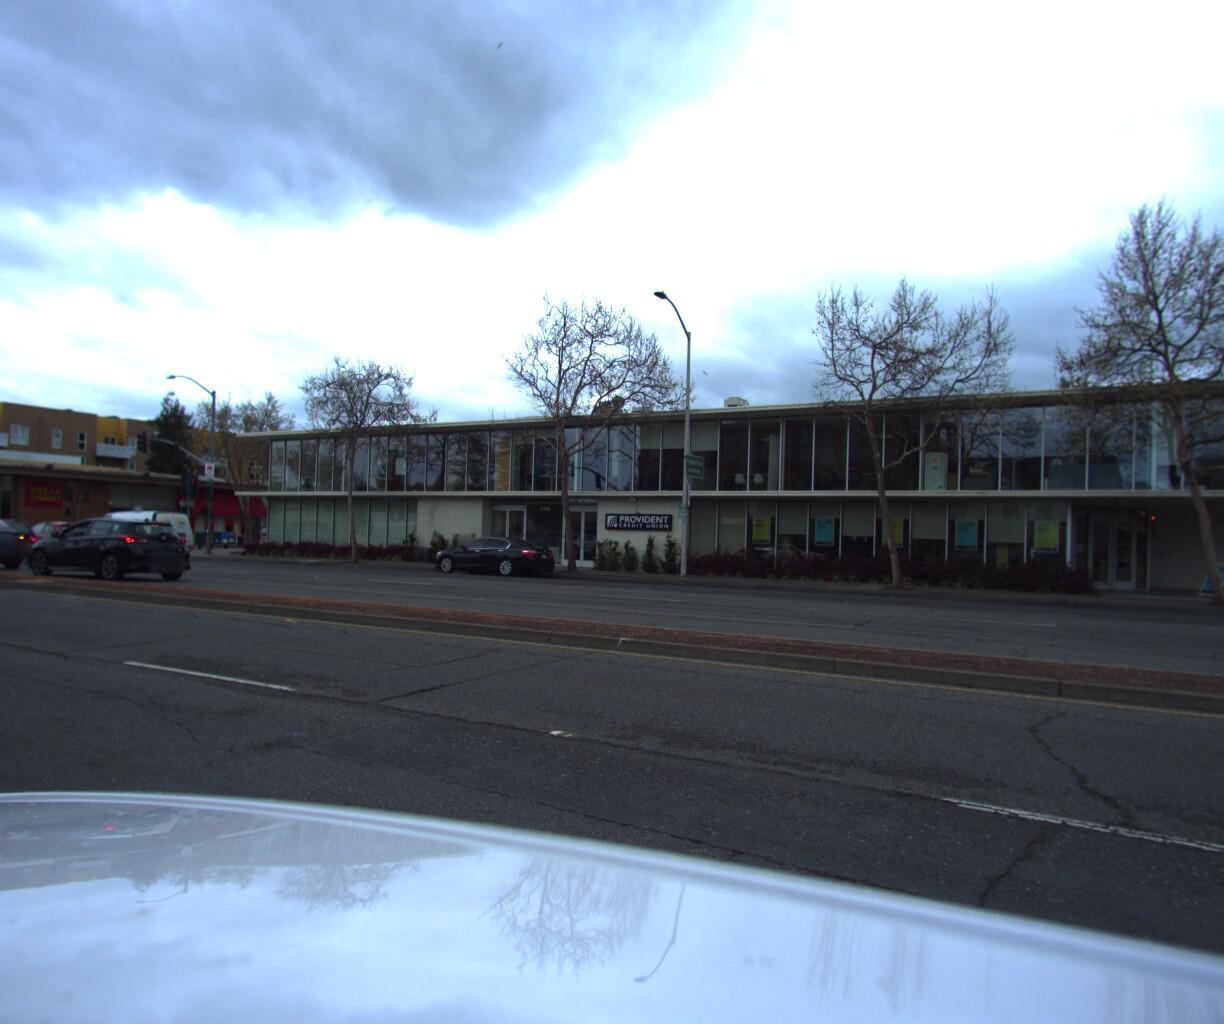car: (6, 522, 200, 600), (422, 540, 562, 594), (85, 513, 201, 563), (9, 524, 117, 566), (0, 516, 43, 574), (0, 519, 45, 565)
